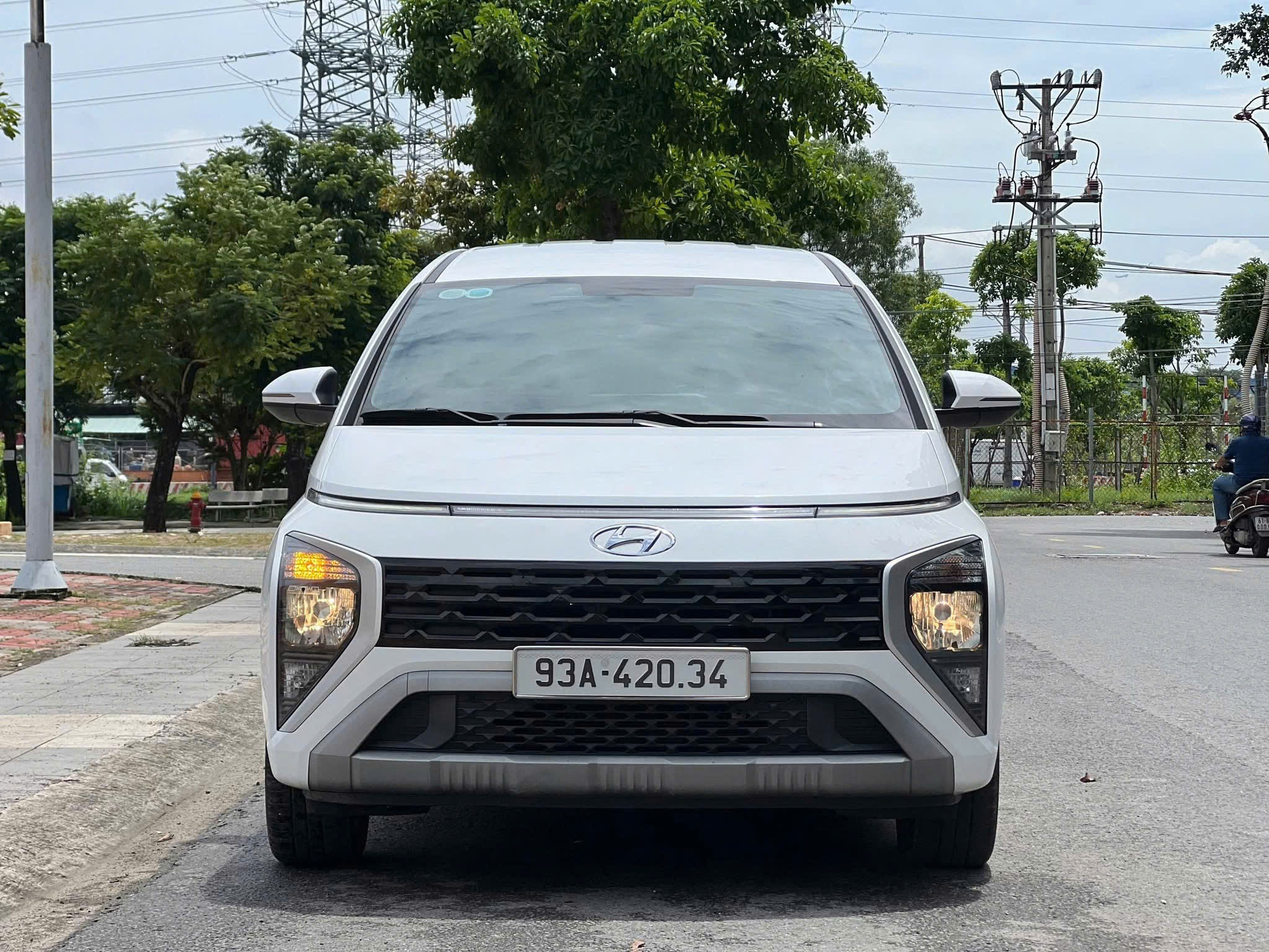Bien-so: (520, 645, 749, 724)
